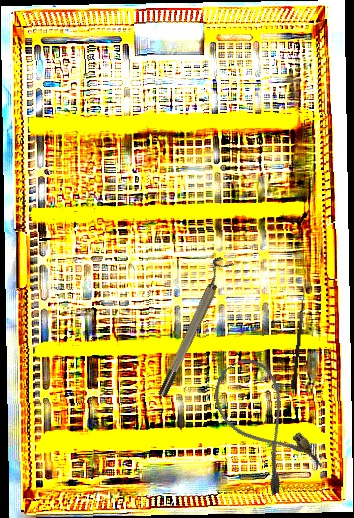Cannula: (202, 350, 325, 498)
Fixation Ring: (150, 255, 234, 399)
Hook Surgical: (290, 278, 307, 390)
